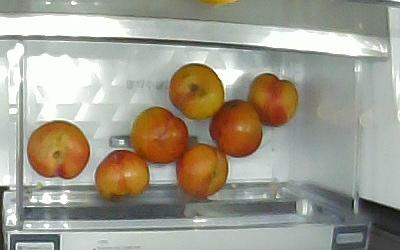prune: (28, 119, 90, 179), (131, 105, 188, 165), (209, 100, 263, 158), (170, 62, 224, 119), (175, 142, 228, 197), (95, 150, 150, 200), (249, 72, 297, 127)
